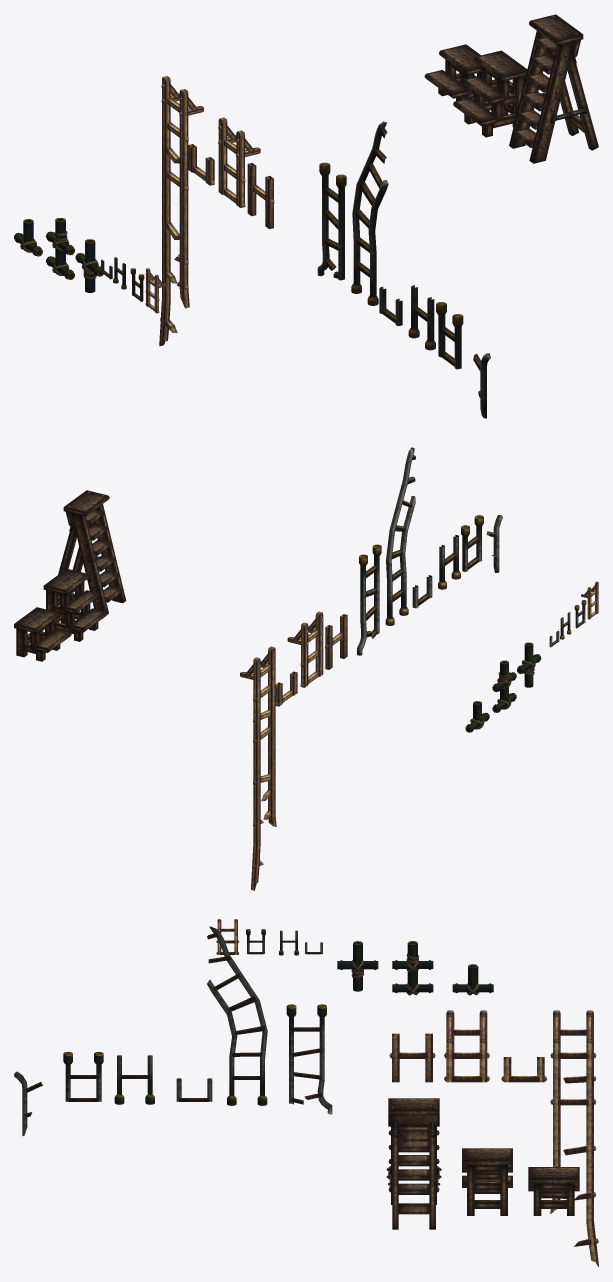
Rendered from EnvObjMD_Indoor_Ladder_A_End.FBX.
The picture shows the model from 3 angles, top to bottom: view 1: azimuth 30°, elevation 25°; view 2: azimuth 150°, elevation 25°; view 3: azimuth 270°, elevation 25°; orthographic projection. The views are drawn at different scales.
Visible parts, largest first — view 1: EnvObjMD_Ladder_B, EnvObjMD_Ladder_Wood_A_End_Broken, EnvObjMD_Ladder_B_3Step, EnvObjMD_Ladder_A_Start_Broken, EnvObjMD_Ladder_A_End_Broken, EnvObjMD_Ladder_Wood_A_End, EnvObjMD_Ladder_B_2Step, EnvObjMD_Ladder_A_End, EnvObjMD_Ladder_Wood_A_Start, EnvObjMD_Ladder_C_bamboo_End, EnvObjMD_Ladder_A_Start, EnvObjMD_Ladder_C_bamboo_Start (+3 smaller); view 2: EnvObjMD_Ladder_B, EnvObjMD_Ladder_Wood_A_End_Broken, EnvObjMD_Ladder_B_3Step, EnvObjMD_Ladder_A_Start_Broken, EnvObjMD_Ladder_B_2Step, EnvObjMD_Ladder_A_End_Broken, EnvObjMD_Ladder_Wood_A_End, EnvObjMD_Ladder_Wood_A_Start, EnvObjMD_Ladder_A_End, EnvObjMD_Ladder_C_bamboo_End, EnvObjMD_Ladder_A_Start, EnvObjMD_Ladder_C_bamboo_Start; view 3: EnvObjMD_Ladder_B, EnvObjMD_Ladder_Wood_A_End_Broken, EnvObjMD_Ladder_B_3Step, EnvObjMD_Ladder_A_Start_Broken, EnvObjMD_Ladder_B_2Step, EnvObjMD_Ladder_Wood_A_End, EnvObjMD_Ladder_A_End_Broken, EnvObjMD_Ladder_C_bamboo_End, EnvObjMD_Ladder_Wood_A_Start, EnvObjMD_Ladder_A_End, EnvObjMD_Ladder_C_bamboo_Start, EnvObjMD_Ladder_A_Start (+3 smaller).
Boxes of the visible parts, <box> form: EnvObjMD_Ladder_B: <box>509,14,598,163</box>; EnvObjMD_Ladder_Wood_A_End_Broken: <box>159,76,203,346</box>; EnvObjMD_Ladder_B_3Step: <box>453,50,527,137</box>; EnvObjMD_Ladder_A_Start_Broken: <box>351,121,388,305</box>; EnvObjMD_Ladder_A_End_Broken: <box>317,162,346,280</box>; EnvObjMD_Ladder_Wood_A_End: <box>218,117,260,207</box>; EnvObjMD_Ladder_B_2Step: <box>424,44,486,101</box>; EnvObjMD_Ladder_A_End: <box>436,302,463,369</box>; EnvObjMD_Ladder_Wood_A_Start: <box>247,163,274,229</box>; EnvObjMD_Ladder_C_bamboo_End: <box>46,217,74,279</box>; EnvObjMD_Ladder_A_Start: <box>408,285,435,350</box>; EnvObjMD_Ladder_C_bamboo_Start: <box>75,239,103,292</box>; EnvObjMD_Ladder_B: <box>57,490,126,613</box>; EnvObjMD_Ladder_Wood_A_End_Broken: <box>240,646,276,890</box>; EnvObjMD_Ladder_B_3Step: <box>43,569,107,641</box>; EnvObjMD_Ladder_A_Start_Broken: <box>385,447,415,625</box>; EnvObjMD_Ladder_B_2Step: <box>14,607,71,661</box>; EnvObjMD_Ladder_A_End_Broken: <box>357,544,381,655</box>; EnvObjMD_Ladder_Wood_A_End: <box>287,611,323,687</box>; EnvObjMD_Ladder_Wood_A_Start: <box>325,614,347,669</box>; EnvObjMD_Ladder_A_End: <box>461,515,483,571</box>; EnvObjMD_Ladder_C_bamboo_End: <box>492,660,516,712</box>; EnvObjMD_Ladder_A_Start: <box>438,535,460,589</box>; EnvObjMD_Ladder_C_bamboo_Start: <box>517,642,541,687</box>; EnvObjMD_Ladder_B: <box>386,1098,441,1229</box>; EnvObjMD_Ladder_Wood_A_End_Broken: <box>550,1010,598,1267</box>; EnvObjMD_Ladder_B_3Step: <box>462,1148,512,1215</box>; EnvObjMD_Ladder_A_Start_Broken: <box>207,926,267,1105</box>; EnvObjMD_Ladder_B_2Step: <box>528,1167,579,1215</box>; EnvObjMD_Ladder_Wood_A_End: <box>444,1010,489,1082</box>; EnvObjMD_Ladder_A_End_Broken: <box>286,1004,332,1114</box>; EnvObjMD_Ladder_C_bamboo_End: <box>392,941,433,995</box>; EnvObjMD_Ladder_Wood_A_Start: <box>389,1033,435,1082</box>; EnvObjMD_Ladder_A_End: <box>63,1051,103,1101</box>; EnvObjMD_Ladder_C_bamboo_Start: <box>337,941,378,991</box>; EnvObjMD_Ladder_A_Start: <box>114,1055,154,1104</box>.
Size of the model in its own units: 1136 by 749 by 1143.
Materials: 5 (5 with a texture image).
